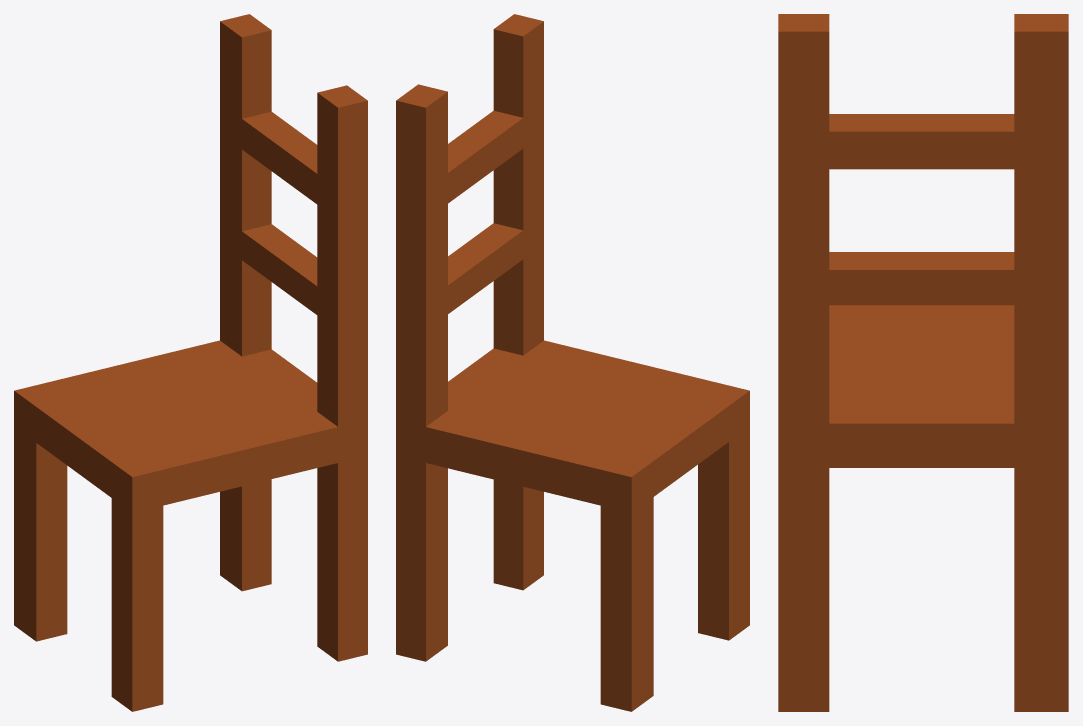
The model's file is WoodenChair.glb.
3 renders of one model, left to right at view 1: azimuth 30°, elevation 25°; view 2: azimuth 150°, elevation 25°; view 3: azimuth 270°, elevation 25°, orthographic. The views are drawn at different scales.
Visible parts, largest first — view 1: Chair; view 2: Chair; view 3: Chair.
Boxes of the visible parts, box(x1,y1,x2,y2) form: Chair: box(14, 14, 367, 711); Chair: box(396, 14, 749, 711); Chair: box(778, 14, 1068, 711).
Bounding box in the file's own units: 1.55 × 3.48 × 1.35.
